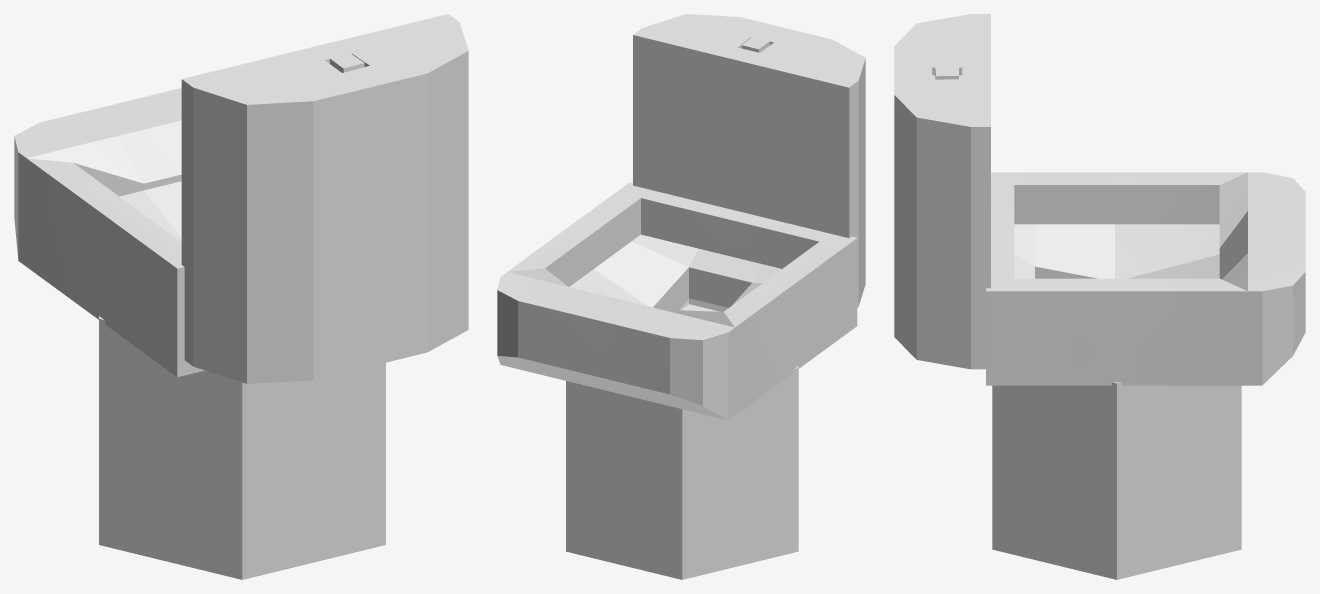
Rendered from toilet.glb.
3 renders of one model, left to right at view 1: azimuth 30°, elevation 25°; view 2: azimuth 150°, elevation 25°; view 3: azimuth 270°, elevation 25°, orthographic. The views are drawn at different scales.
Parts seen in each view (by area): view 1: toilet; view 2: toilet; view 3: toilet.
Part boxes in pixels (x1,y1,x2,y2): toilet: (14, 14, 468, 579); toilet: (497, 14, 865, 579); toilet: (894, 14, 1305, 579).
Size of the model in its own units: 0.58 by 1 by 0.8294.
Materials: 2 (1 with a texture image).
